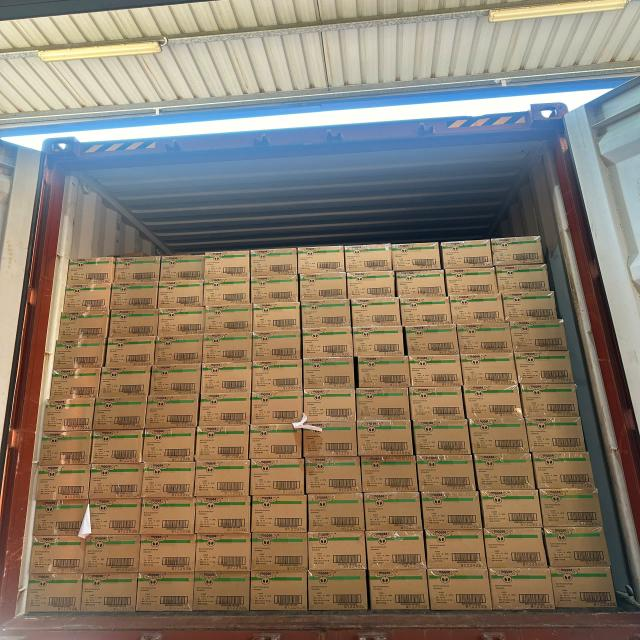Carton: (548, 566, 618, 609), (488, 567, 556, 611), (543, 526, 612, 567), (426, 568, 493, 610), (483, 528, 549, 568), (539, 488, 605, 527), (307, 570, 368, 612), (368, 568, 429, 610), (134, 571, 196, 612), (416, 454, 479, 493), (421, 489, 482, 529), (425, 529, 485, 569), (474, 452, 534, 492), (250, 570, 308, 611), (80, 572, 138, 613), (468, 417, 532, 454), (82, 534, 141, 574), (25, 572, 84, 612), (532, 452, 594, 490), (364, 491, 422, 531), (518, 382, 582, 418), (250, 532, 309, 571), (368, 529, 424, 570), (137, 534, 197, 572), (308, 531, 366, 570), (193, 570, 249, 610), (248, 458, 306, 496), (361, 456, 419, 494), (138, 497, 196, 535), (482, 492, 543, 528), (194, 533, 250, 572), (526, 417, 588, 452), (307, 493, 364, 531), (194, 496, 251, 534), (28, 536, 85, 574), (194, 460, 252, 497), (32, 499, 90, 536), (252, 495, 308, 533), (305, 456, 361, 494), (413, 419, 472, 455), (139, 462, 197, 498), (34, 464, 92, 500), (463, 385, 522, 420), (87, 463, 144, 499), (355, 420, 412, 456), (514, 352, 574, 386), (140, 427, 197, 462), (355, 387, 412, 422), (456, 322, 516, 355), (510, 319, 570, 352), (194, 425, 250, 460), (88, 429, 144, 464), (302, 421, 358, 456), (250, 390, 304, 426), (38, 430, 92, 466), (88, 498, 142, 534), (489, 234, 547, 267), (198, 392, 250, 428), (501, 291, 559, 323), (250, 424, 303, 459), (409, 387, 463, 421), (42, 398, 96, 432), (495, 262, 552, 294), (303, 389, 356, 423), (404, 324, 460, 356), (438, 238, 494, 270), (450, 292, 506, 324), (145, 395, 199, 428), (47, 368, 102, 400), (200, 362, 254, 394), (303, 357, 355, 390), (301, 327, 355, 358), (150, 366, 202, 398), (445, 266, 500, 296), (300, 298, 351, 330), (94, 402, 148, 432), (56, 310, 110, 340), (52, 339, 106, 369), (358, 357, 410, 388), (352, 326, 405, 356), (390, 242, 443, 272), (408, 358, 462, 387), (463, 358, 517, 387), (400, 296, 452, 326), (394, 269, 446, 299), (351, 296, 401, 327), (203, 333, 253, 363), (154, 335, 204, 365), (346, 270, 396, 300), (343, 243, 393, 273), (62, 282, 112, 312), (109, 308, 159, 338), (156, 306, 204, 337), (252, 331, 301, 361), (204, 304, 253, 334), (249, 247, 298, 277), (253, 362, 303, 391), (250, 275, 300, 304), (252, 302, 300, 332), (202, 276, 250, 306), (99, 372, 150, 400), (65, 256, 114, 285), (110, 282, 160, 310), (300, 271, 348, 300), (157, 279, 205, 308), (340, 27, 363, 87), (298, 245, 345, 274), (106, 343, 156, 370), (204, 250, 250, 278), (112, 256, 160, 282), (160, 254, 205, 281)
